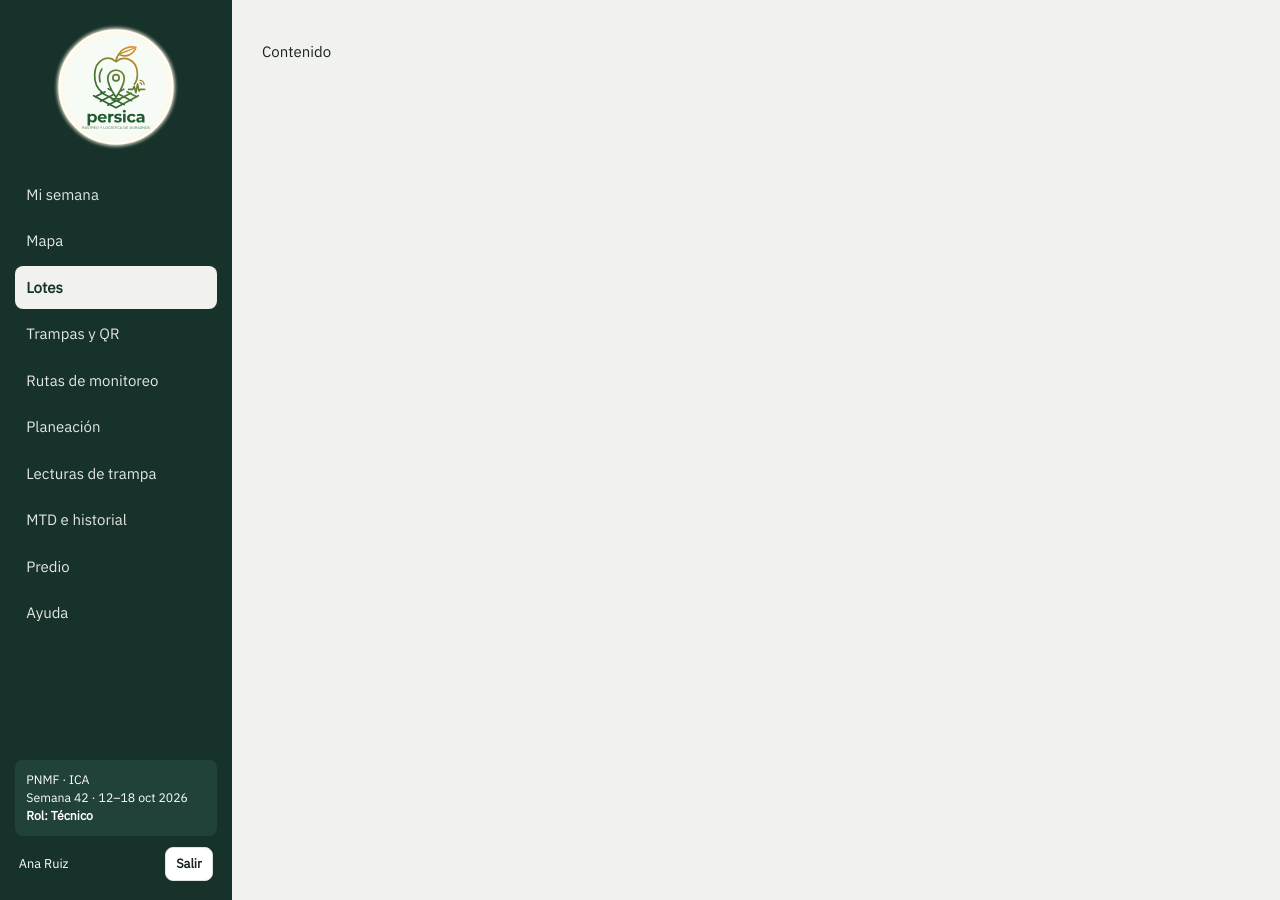
Plantilla › «Ayuda» abre el modal con la versión y el manual, y se cierra
Click the button "Ayuda": (116, 613) [15,592,217,634]
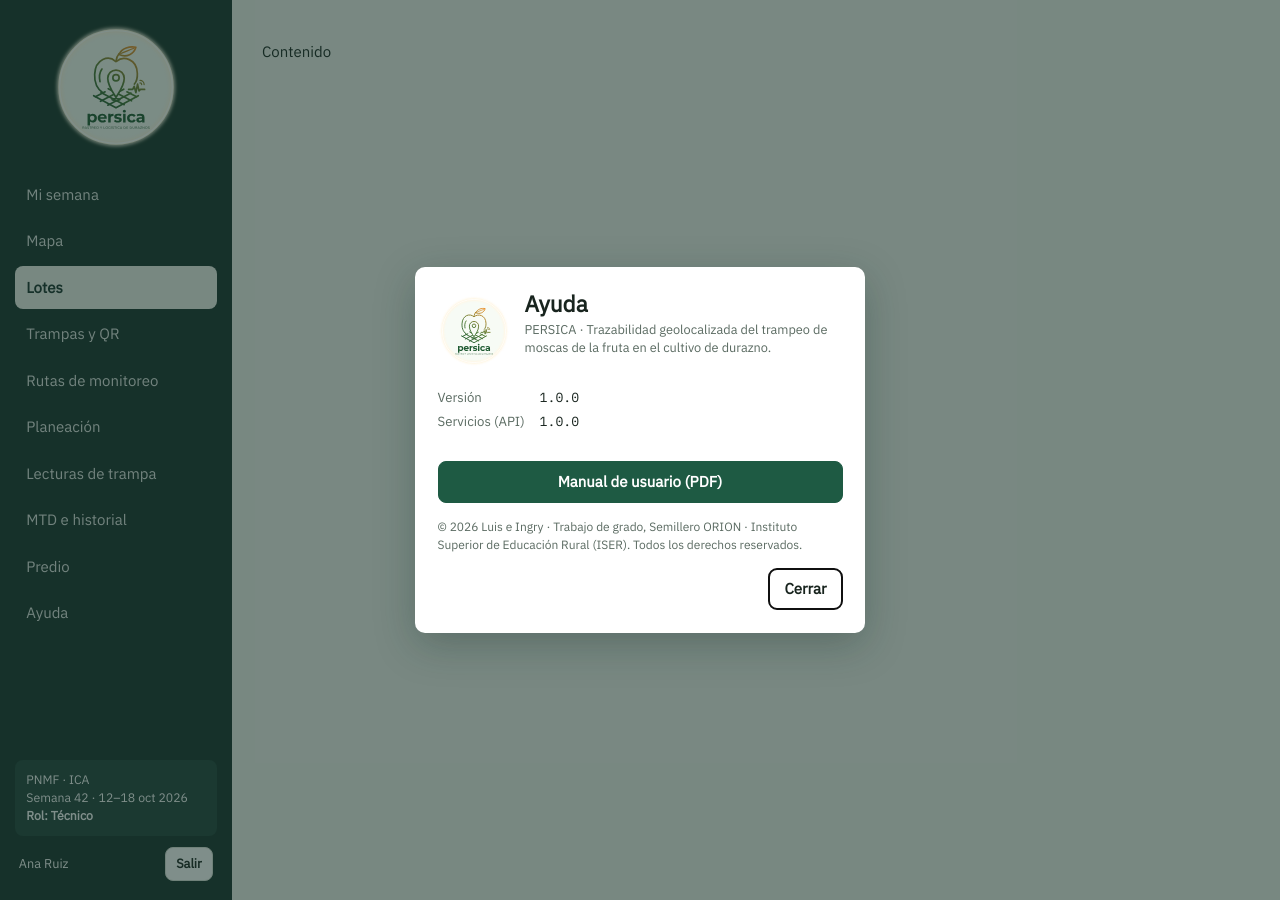
Expected: the dialog "Ayuda" is shown, [415,268,865,632]
Expected: the link "Manual de usuario (PDF)" is shown, [438,461,842,503]
Click the button "Cerrar": (806, 589) [768,568,842,610]
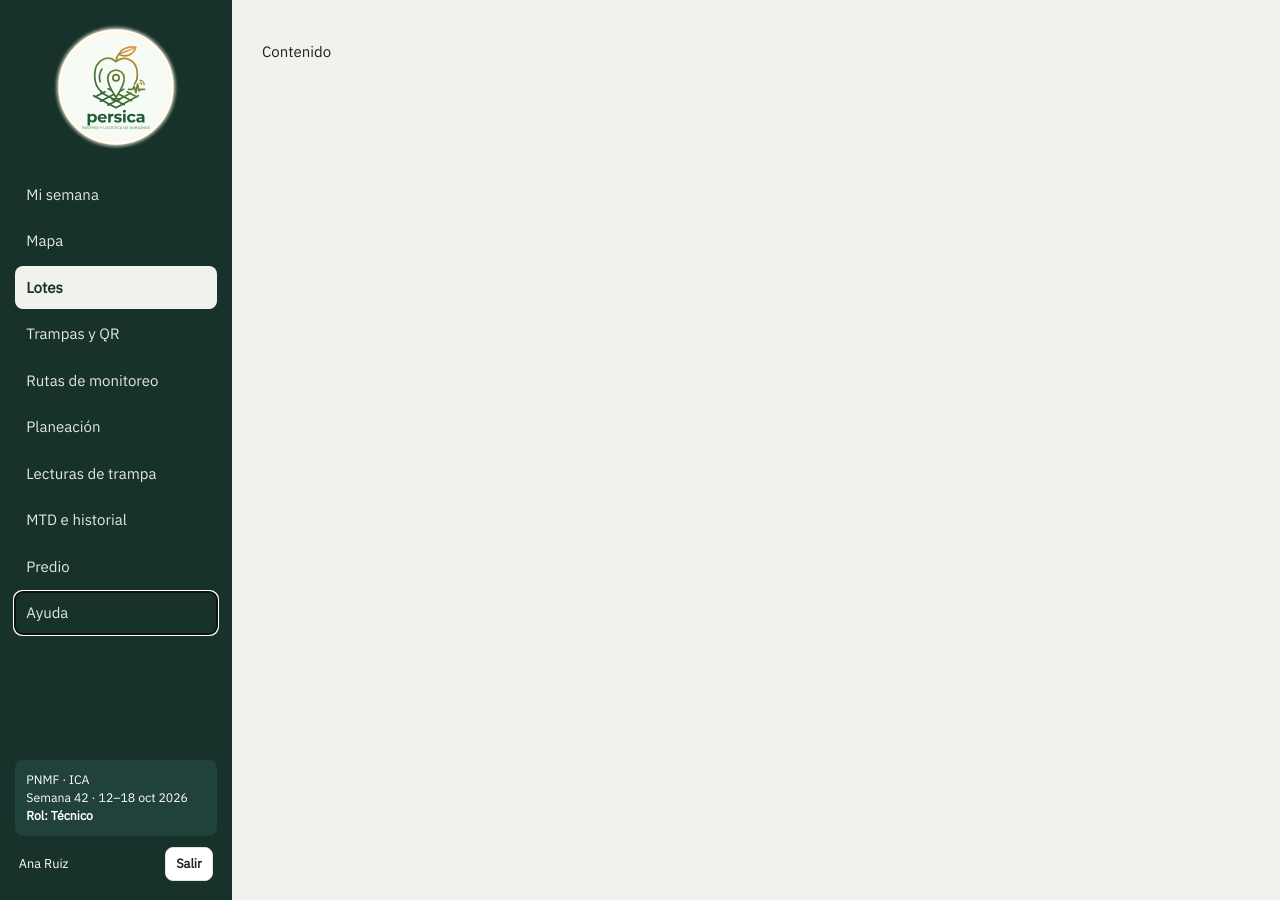
Expected: the dialog is gone
